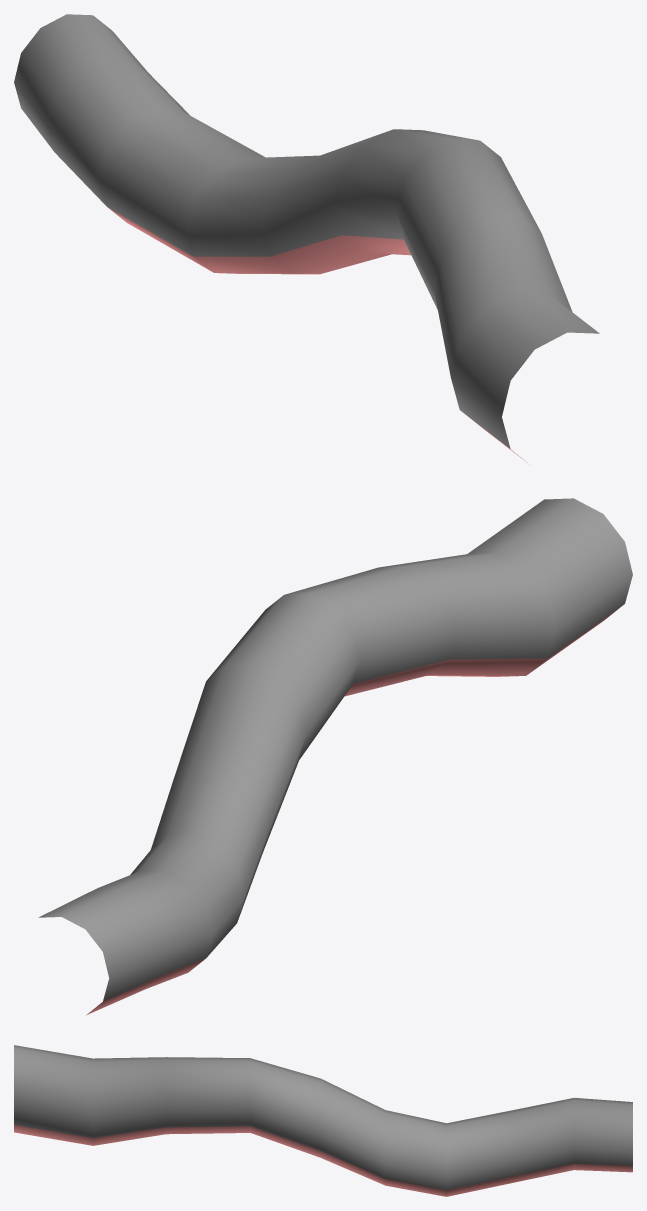
The picture shows the model from 3 angles, top to bottom: view 1: azimuth 30°, elevation 25°; view 2: azimuth 150°, elevation 25°; view 3: azimuth 270°, elevation 25°; orthographic projection. The views are drawn at different scales.
Visible parts, largest first — view 1: root_1_2; view 2: root_1_2; view 3: root_1_2.
Boxes of the visible parts, <box> form: root_1_2: <box>14,14,599,465</box>; root_1_2: <box>38,498,632,1015</box>; root_1_2: <box>14,1045,632,1196</box>.
Size of the model in its own units: 12.17 by 13.35 by 52.07.
